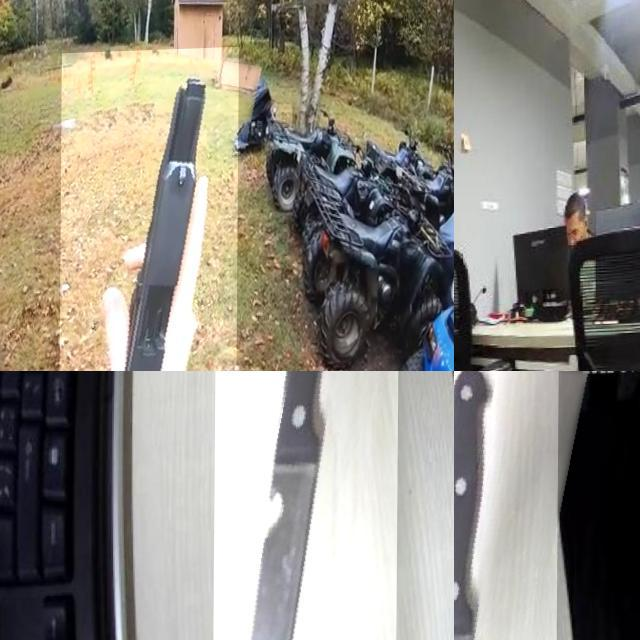-: (213, 371, 399, 640), (454, 371, 569, 640), (454, 159, 471, 282)
gun-knife-thesis - v11 Yolov5 augmented: (59, 50, 239, 371)
